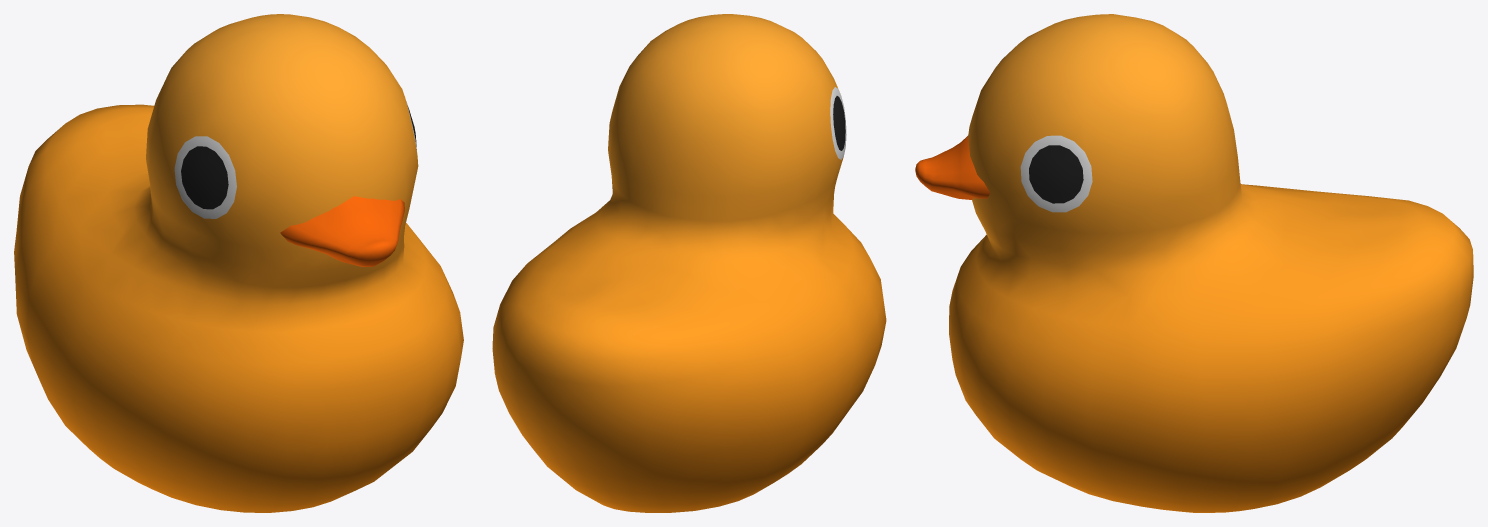
Rendered from RubberDuck.glb.
The picture shows the model from 3 angles, left to right: view 1: azimuth 30°, elevation 25°; view 2: azimuth 150°, elevation 25°; view 3: azimuth 270°, elevation 25°; orthographic projection. The views are drawn at different scales.
Parts seen in each view (by area): view 1: Collectable_Rubber_Duck_01; view 2: Collectable_Rubber_Duck_01; view 3: Collectable_Rubber_Duck_01.
Part boxes in pixels (x1,y1,x2,y2): Collectable_Rubber_Duck_01: (14,14,463,512); Collectable_Rubber_Duck_01: (492,14,886,512); Collectable_Rubber_Duck_01: (915,14,1473,512).
Bounding box in the file's own units: 0.4249 × 0.5582 × 0.6066.
1 material, 1 textured.
